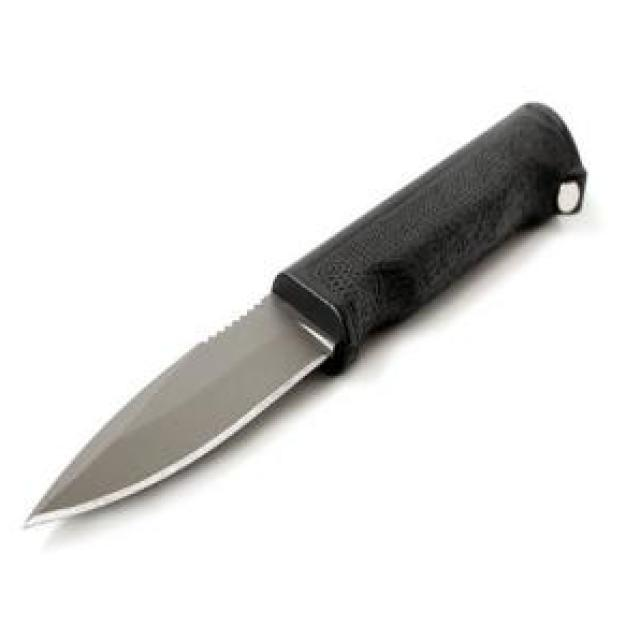knife: (19, 90, 588, 538)
